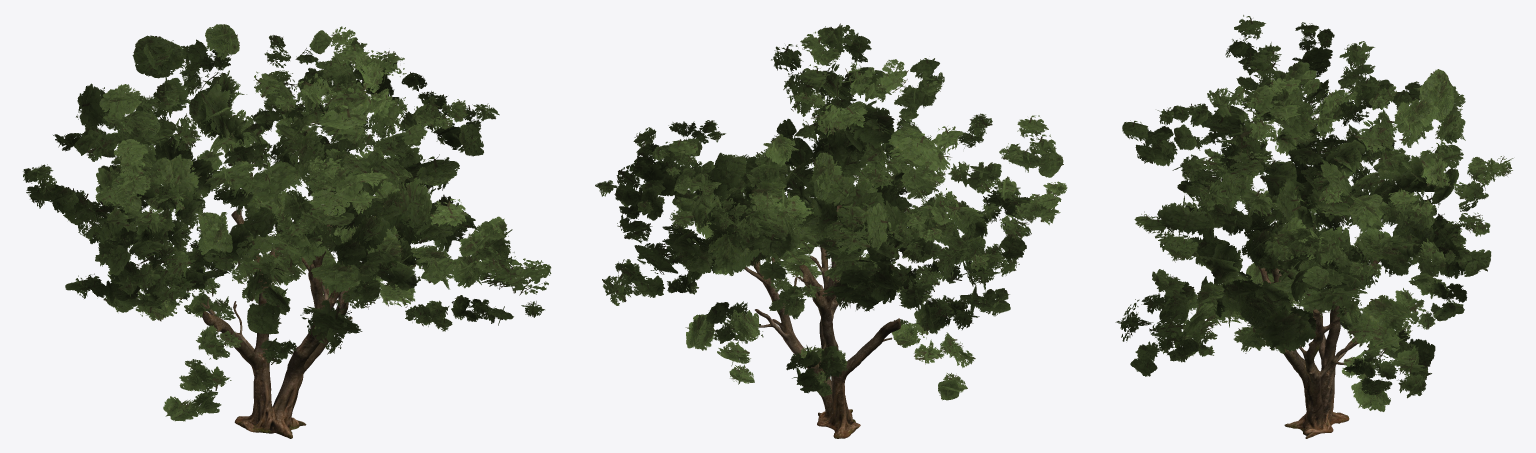
Rendered from tree_broad2_near.glb.
3 views of the same model, side by side, from view 1: azimuth 30°, elevation 25°; view 2: azimuth 150°, elevation 25°; view 3: azimuth 270°, elevation 25° (orthographic). The views are drawn at different scales.
Parts seen in each view (by area): view 1: tree_broad2_near; view 2: tree_broad2_near; view 3: tree_broad2_near.
Boxes of the visible parts, box(x1,y1,x2,y2) form: tree_broad2_near: box(23, 24, 551, 438); tree_broad2_near: box(595, 23, 1067, 438); tree_broad2_near: box(1115, 15, 1513, 438).
Bounding box in the file's own units: 24.41 × 19.68 × 19.87.
2 materials, 2 textured.
